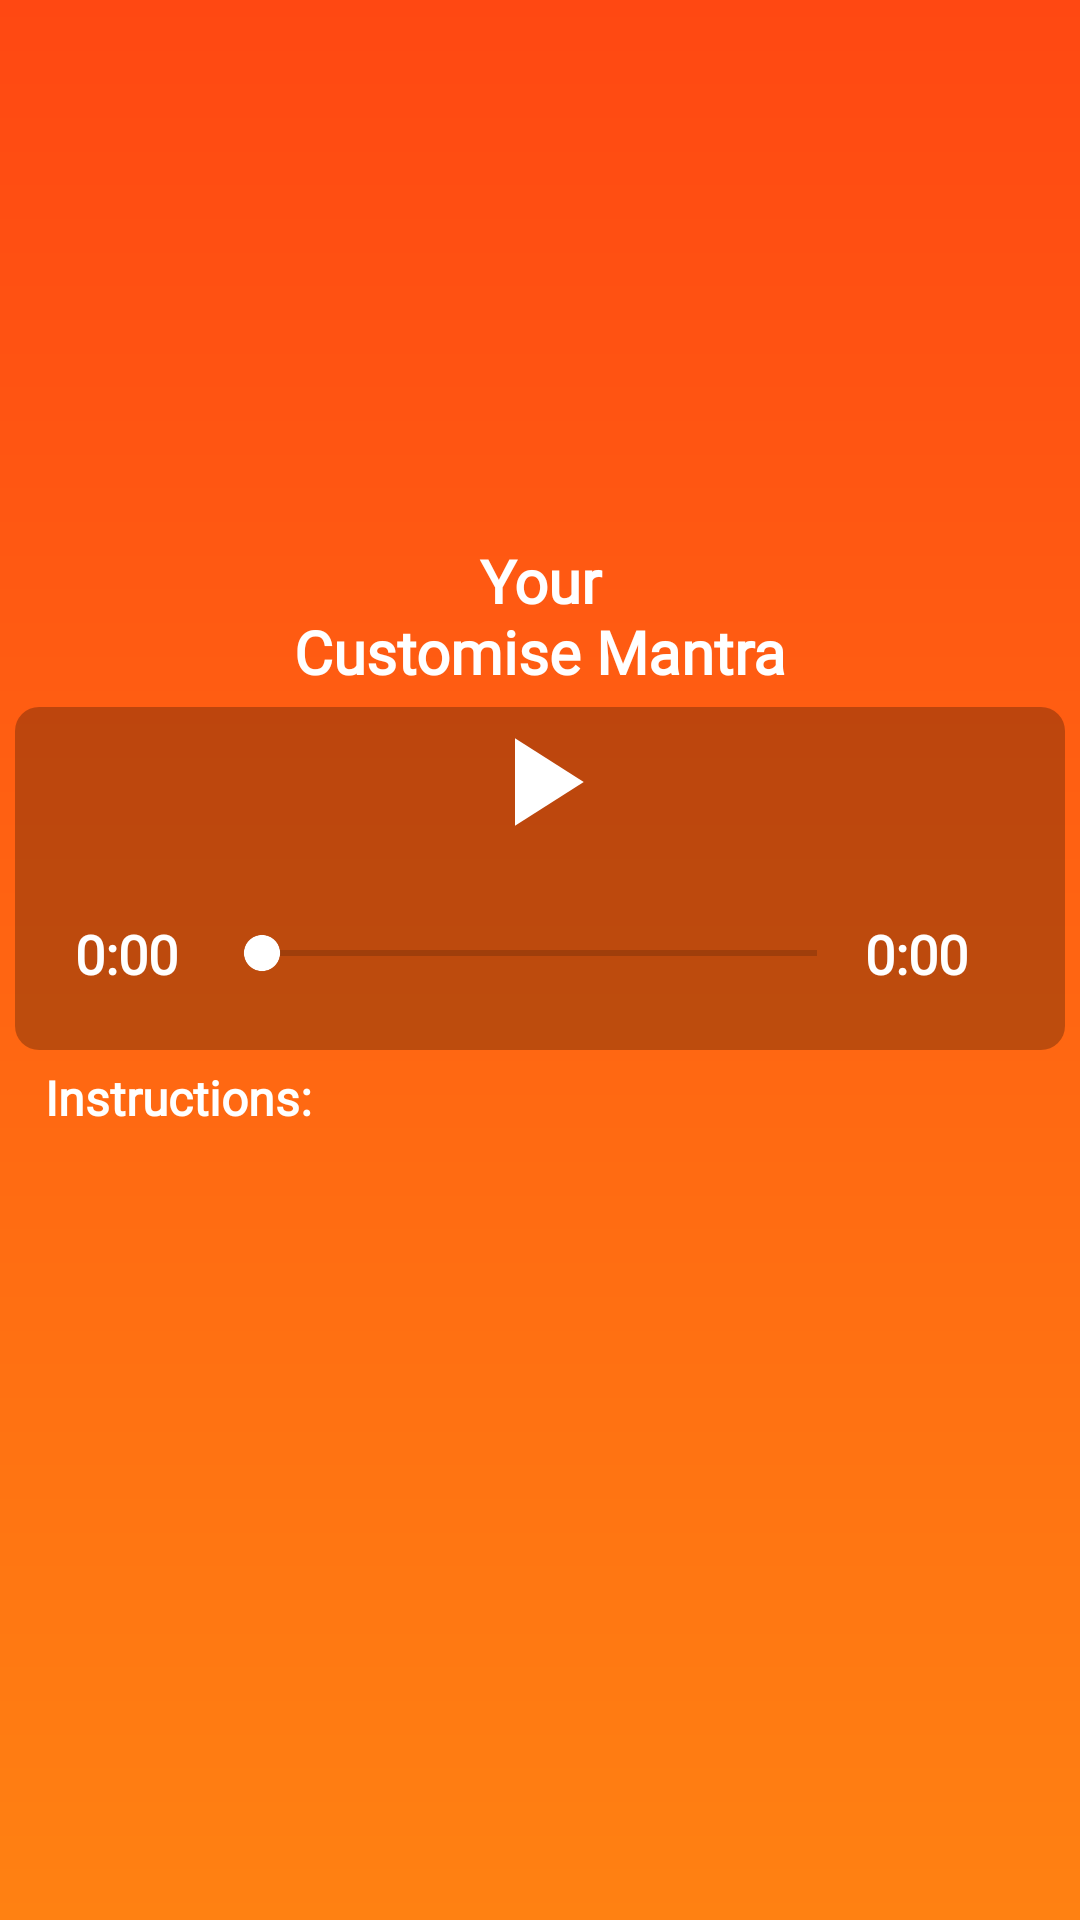

Icon bounding boxes for this 1080*1920 phone screenshot, format box(x1, y1, x2, y2):
play arrow: box(515, 738, 584, 826)
